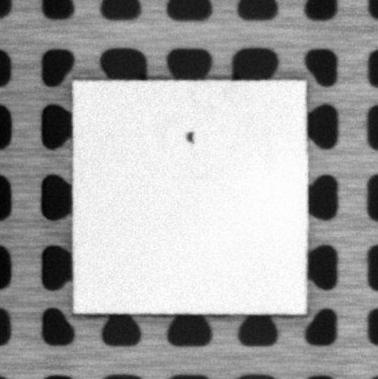DIE_INK: (183, 129, 196, 142)
